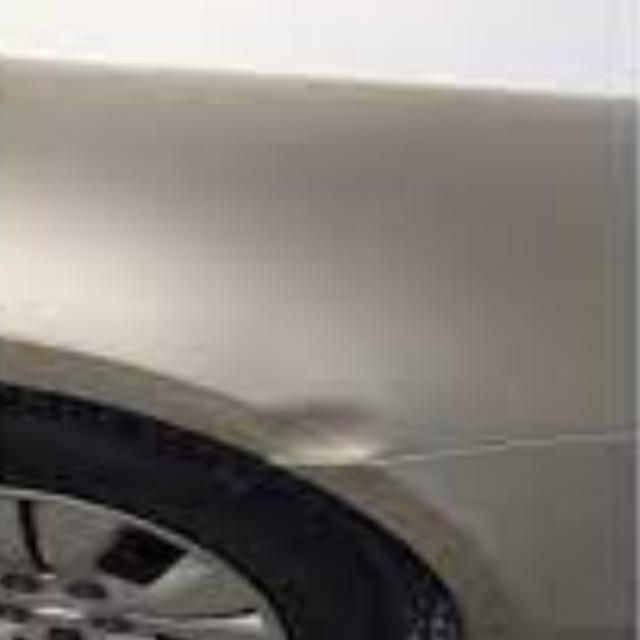dents: (228, 393, 437, 476)
